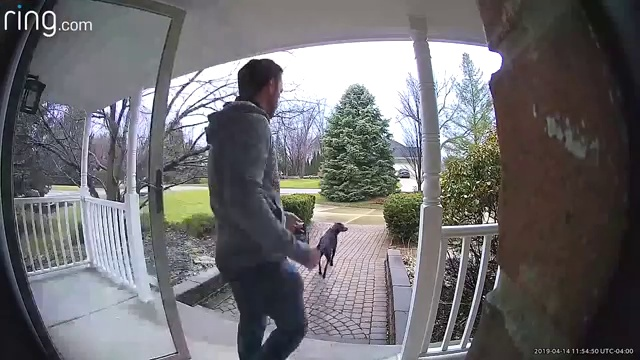face: (262, 70, 286, 112)
